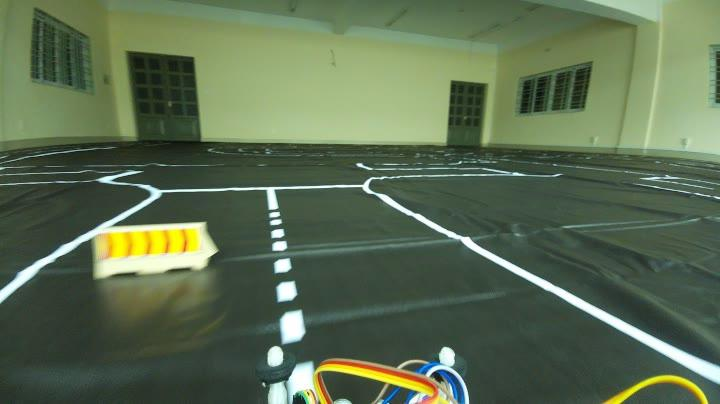roadblock: (83, 227, 218, 280)
